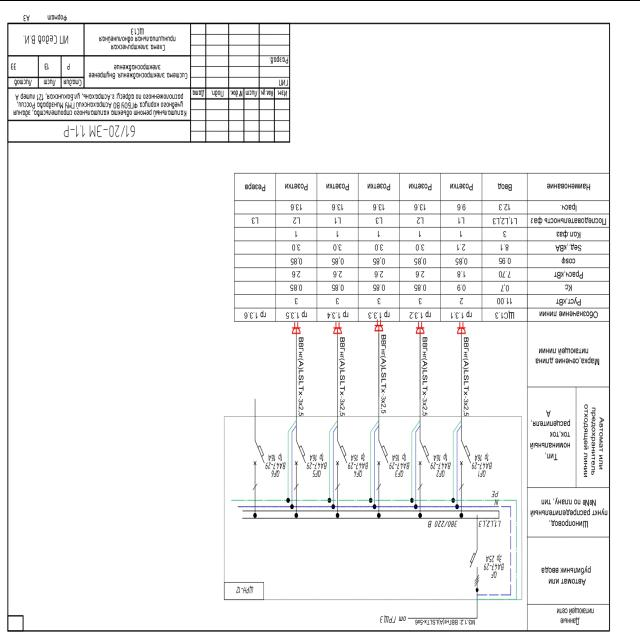-: (482, 552, 507, 570), (469, 452, 494, 470), (428, 451, 452, 469), (347, 452, 371, 470), (304, 452, 328, 470), (387, 451, 411, 468), (263, 451, 287, 468), (233, 584, 254, 594)
QF: (416, 440, 431, 468), (375, 438, 389, 466), (252, 440, 266, 468), (458, 438, 472, 466), (334, 440, 348, 468), (293, 439, 307, 467), (468, 549, 478, 571)
